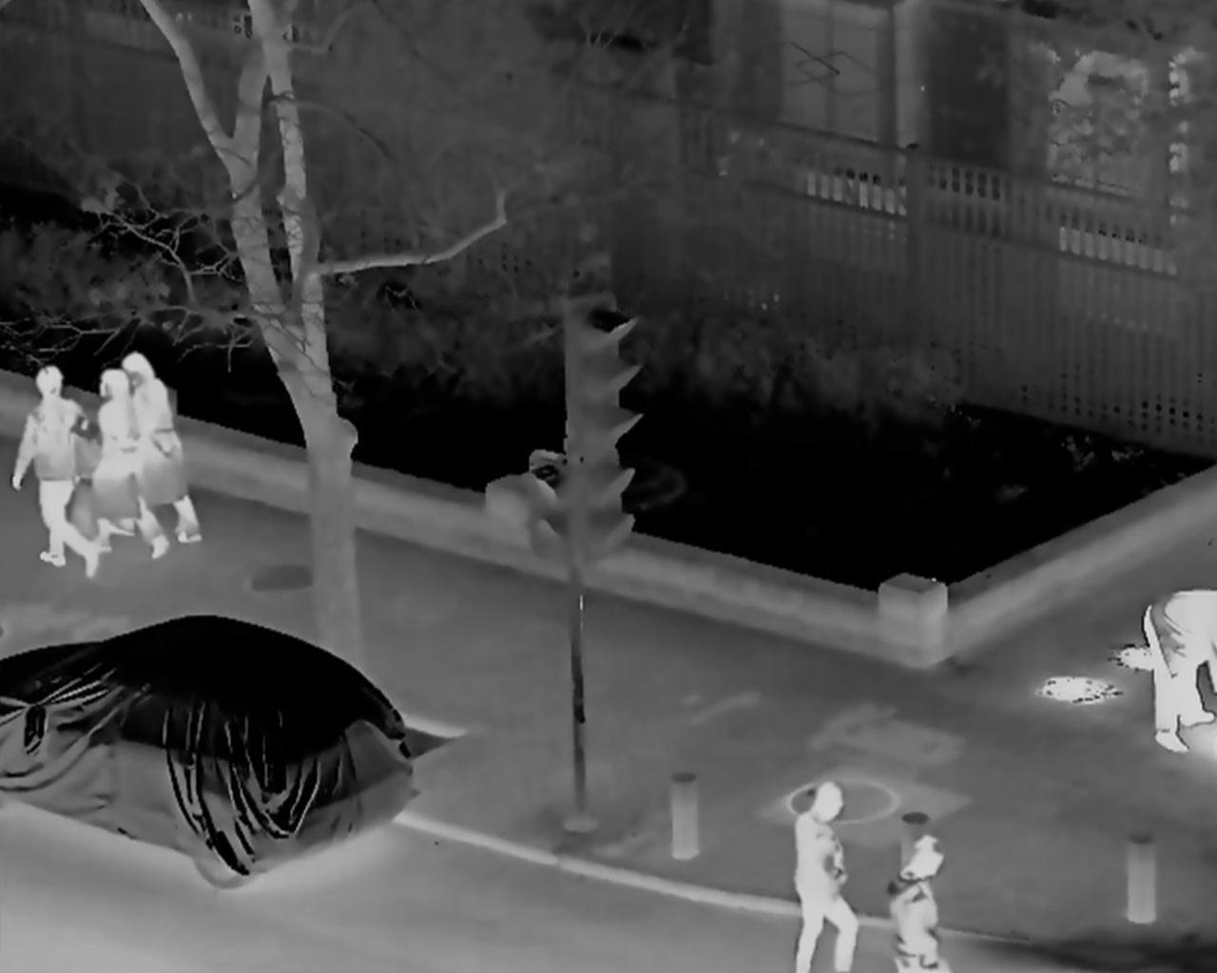person: (17, 368, 98, 576), (115, 354, 202, 544), (87, 365, 163, 556), (795, 786, 862, 973), (1145, 588, 1215, 754), (882, 836, 951, 973)
